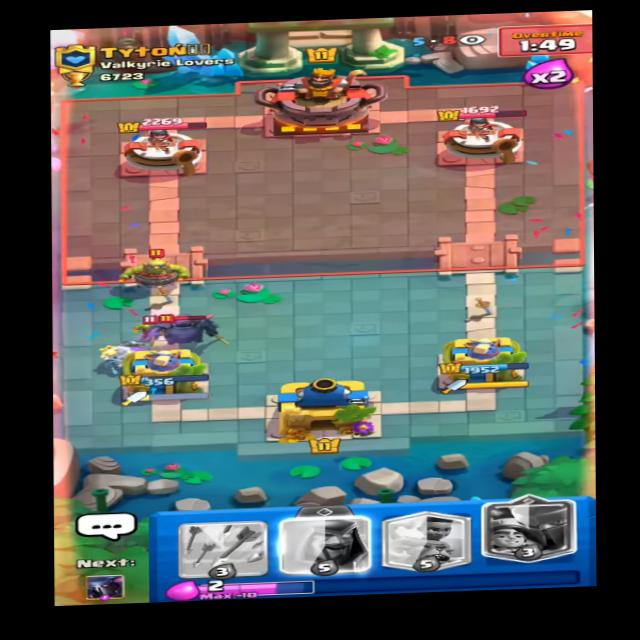goblin: (131, 319, 168, 338)
goblin-demolisher: (114, 247, 206, 287)
pekka: (155, 303, 229, 341)
